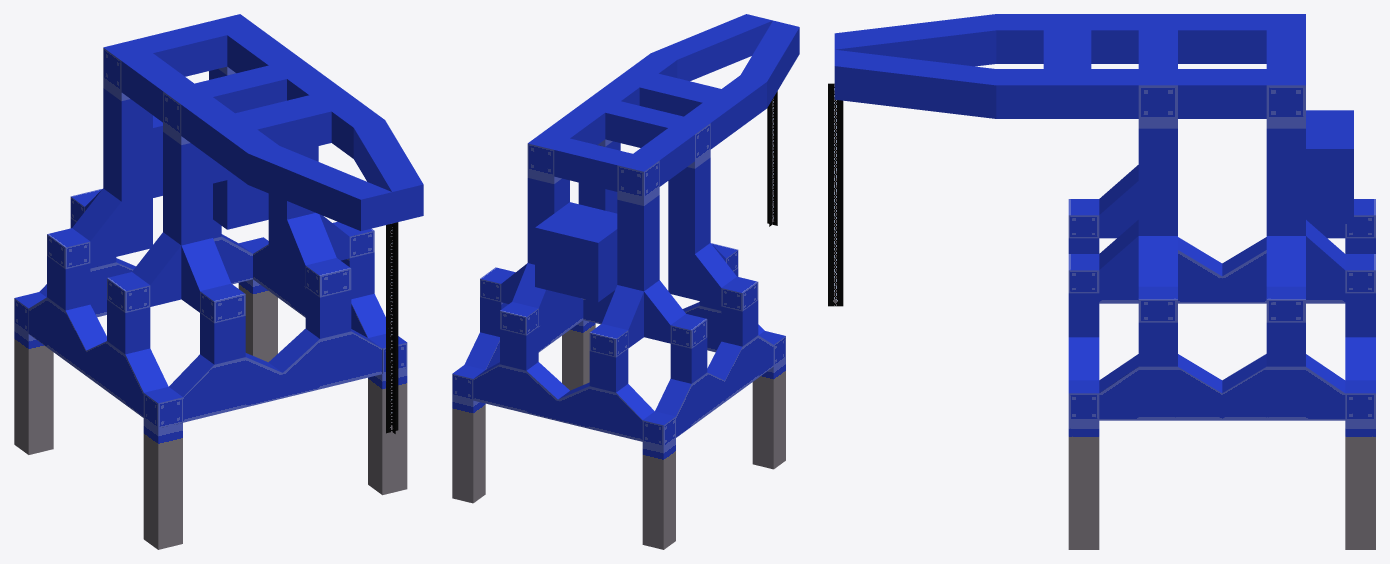
File: Crane.glb
3 views of the same model, side by side, from view 1: azimuth 30°, elevation 25°; view 2: azimuth 150°, elevation 25°; view 3: azimuth 270°, elevation 25° (orthographic). The views are drawn at different scales.
Visible parts, largest first — view 1: Cube, Cube.001; view 2: Cube, Cube.001; view 3: Cube, Cube.001.
Part boxes in pixels (x1=…): Cube: x1=14, y1=14, x2=423, y2=549; Cube.001: x1=386, y1=222, x2=398, y2=433; Cube: x1=452, y1=14, x2=799, y2=549; Cube.001: x1=767, y1=91, x2=777, y2=226; Cube: x1=834, y1=14, x2=1375, y2=549; Cube.001: x1=828, y1=83, x2=843, y2=306.
Bounding box in the file's own units: 40 × 62.51 × 71.3.
Materials: 1 (1 with a texture image).
